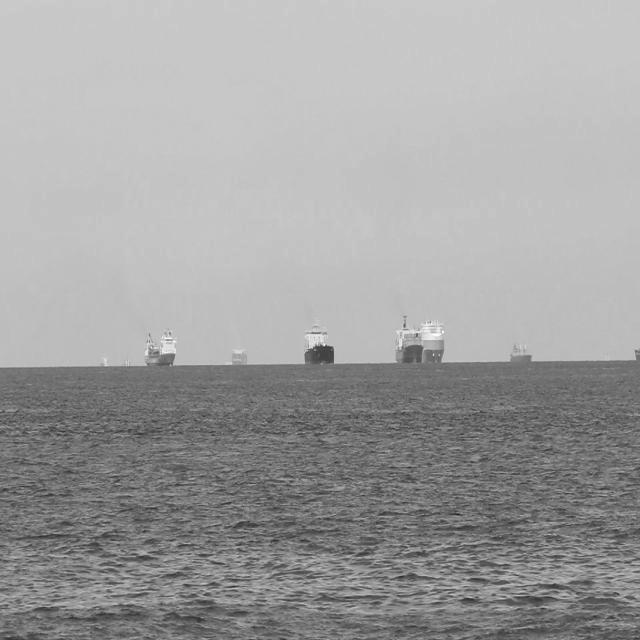ship: (392, 308, 422, 365), (302, 313, 334, 363), (142, 328, 180, 370), (422, 311, 447, 366), (508, 335, 532, 362), (229, 344, 249, 366), (99, 348, 112, 368), (122, 352, 132, 368)
